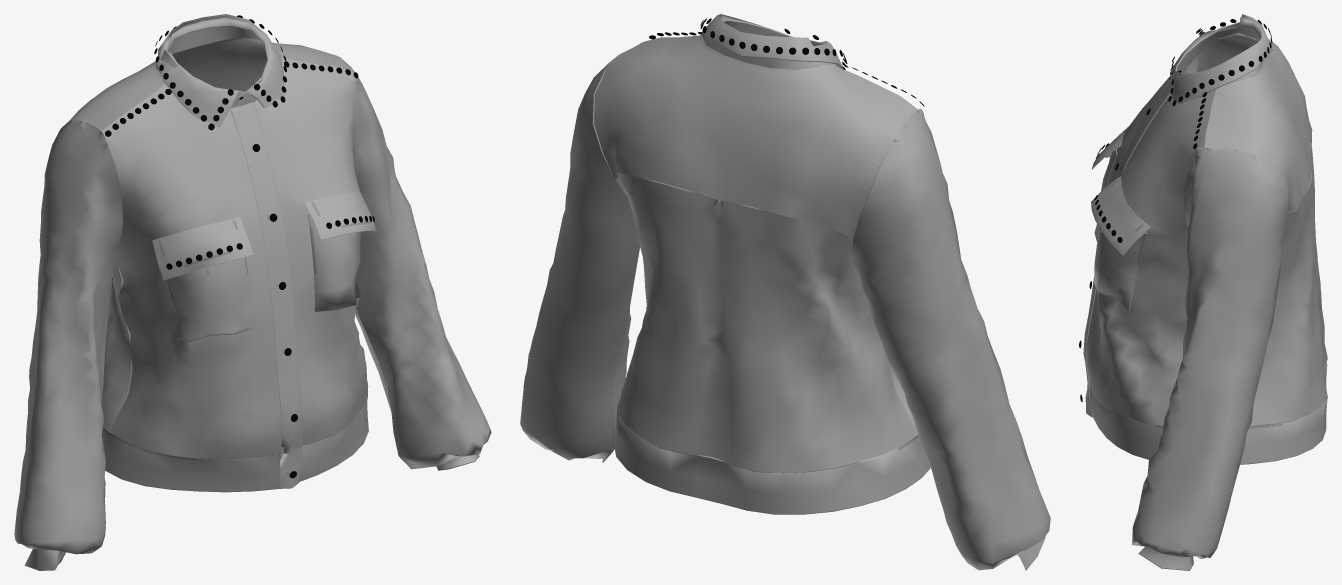
File: tofferjacketlowpoly.fbx
The picture shows the model from 3 angles, left to right: view 1: azimuth 30°, elevation 25°; view 2: azimuth 150°, elevation 25°; view 3: azimuth 270°, elevation 25°; orthographic projection. The views are drawn at different scales.
Parts seen in each view (by area): view 1: 凯信-Toffe jacket_下摆_8; view 2: 凯信-Toffe jacket_下摆_8; view 3: 凯信-Toffe jacket_下摆_8.
Part boxes in pixels (x1,y1,x2,y2): 凯信-Toffe jacket_下摆_8: [14, 14, 491, 570]; 凯信-Toffe jacket_下摆_8: [520, 14, 1050, 570]; 凯信-Toffe jacket_下摆_8: [1079, 14, 1327, 570].
Size of the model in its own units: 65.73 by 62.81 by 31.99.
131 materials, 131 textured.
